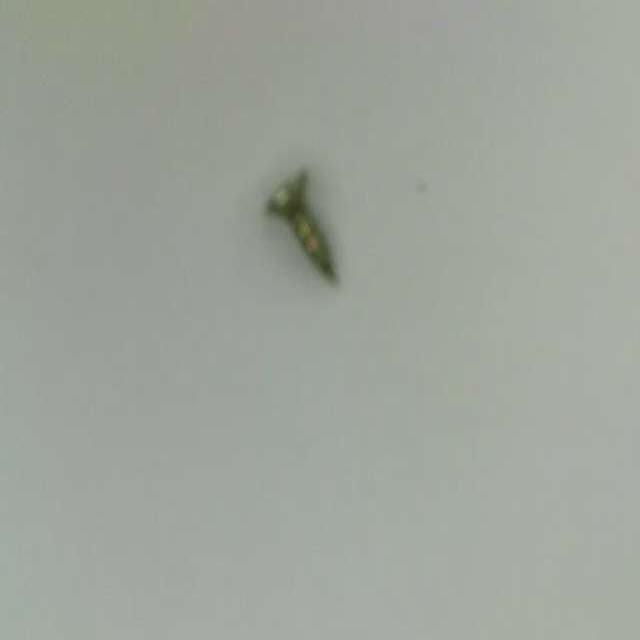Parafuso: (267, 171, 336, 279)
